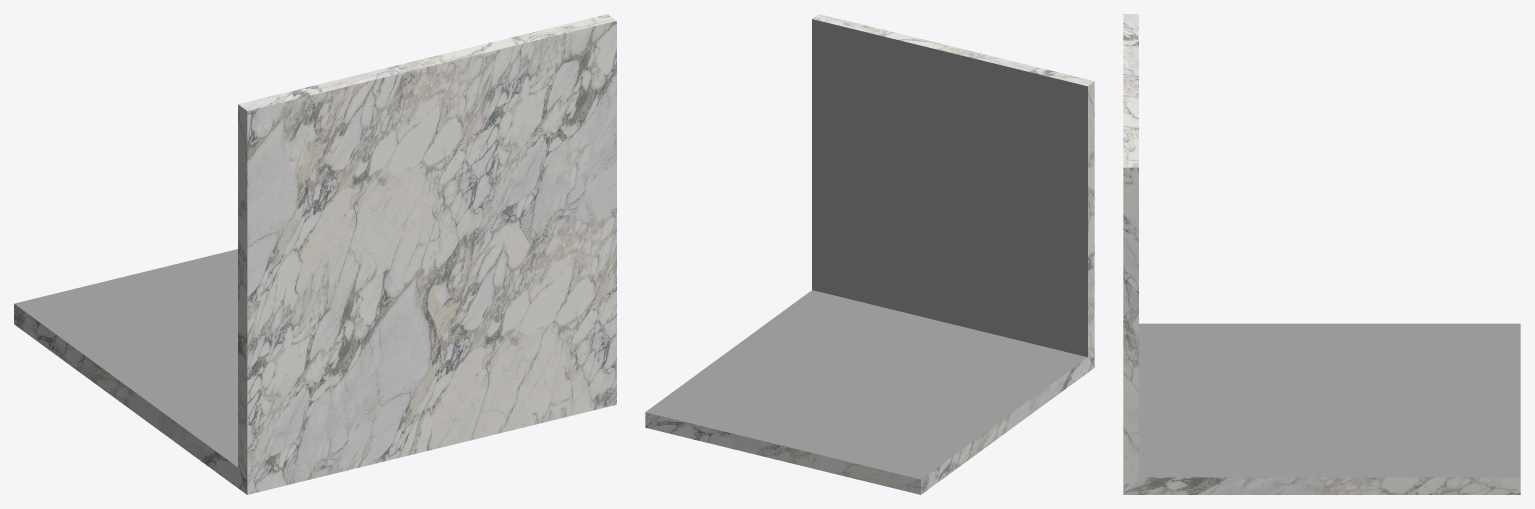
File: ROM0310007.fbx
The picture shows the model from 3 angles, left to right: view 1: azimuth 30°, elevation 25°; view 2: azimuth 150°, elevation 25°; view 3: azimuth 270°, elevation 25°; orthographic projection. The views are drawn at different scales.
Visible parts, largest first — view 1: smROM0310007; view 2: smROM0310007; view 3: smROM0310007.
Boxes of the visible parts, <box> form: smROM0310007: <box>14,14,616,494</box>; smROM0310007: <box>645,14,1094,494</box>; smROM0310007: <box>1123,14,1520,494</box>.
Bounding box in the file's own units: 31.16 × 30.93 × 34.03.
2 materials, 1 textured.
